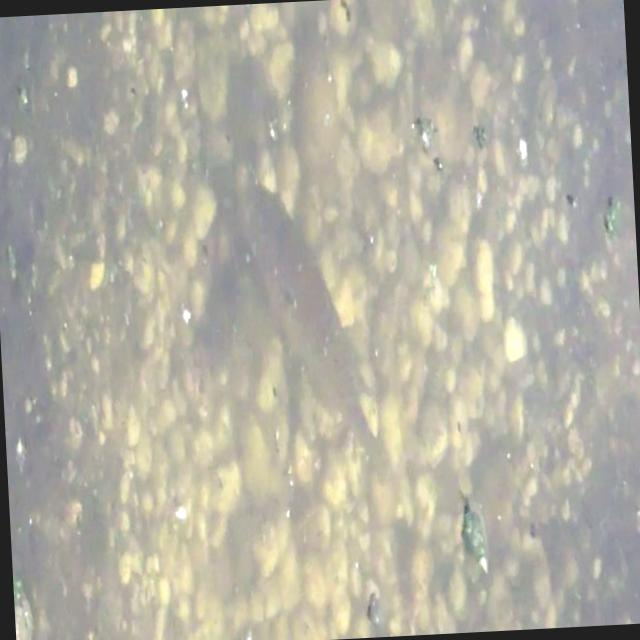Gunes Levregi: (229, 150, 405, 496)
